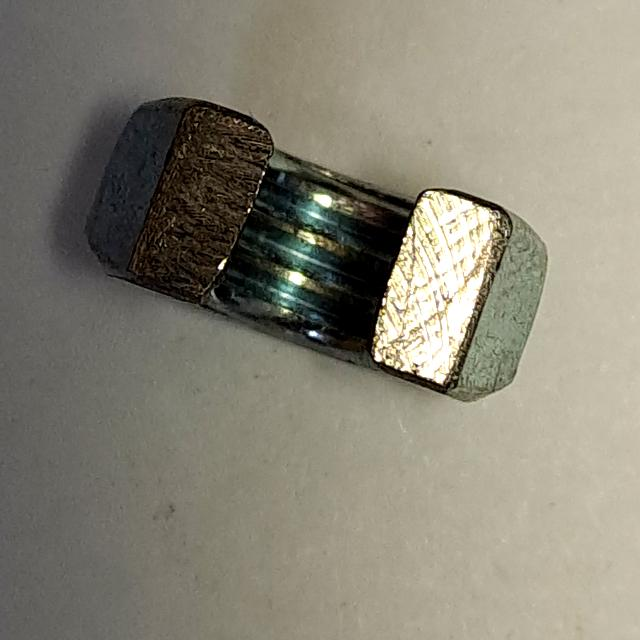Side-Fracture: (72, 83, 558, 425)
